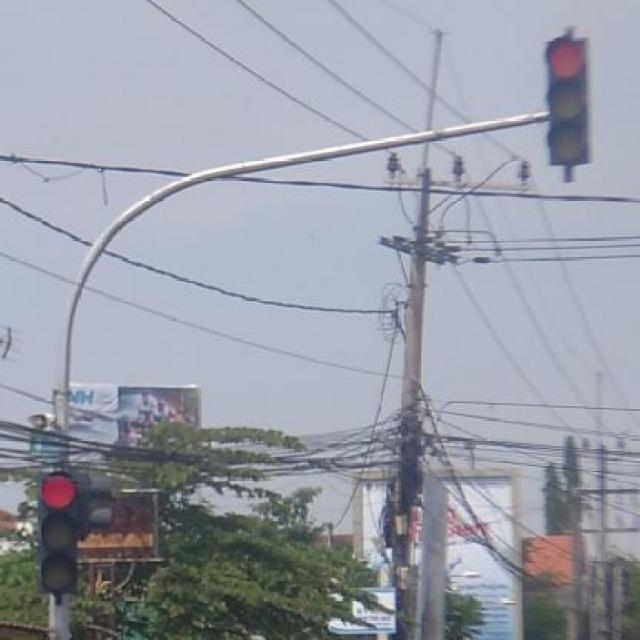traffic light: (543, 35, 594, 165), (43, 471, 83, 600)
